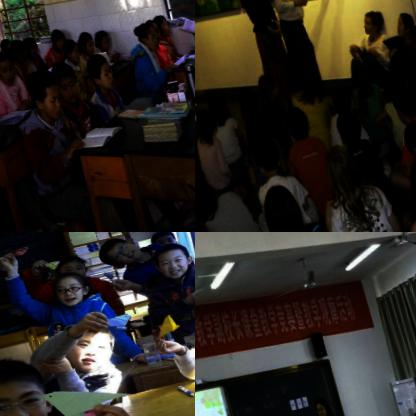head: (47, 312, 124, 382), (0, 348, 74, 416), (18, 66, 63, 122), (91, 232, 147, 276), (254, 184, 305, 232), (147, 238, 194, 284), (319, 144, 358, 191), (80, 51, 116, 96), (247, 136, 284, 176), (275, 102, 311, 142), (47, 61, 79, 105), (51, 250, 90, 282), (237, 112, 270, 148), (49, 274, 86, 306), (386, 84, 416, 122), (177, 275, 195, 336), (330, 110, 361, 145), (195, 175, 218, 219), (131, 22, 158, 55), (147, 232, 180, 258), (291, 58, 317, 90), (326, 86, 352, 118), (355, 9, 385, 36), (201, 92, 226, 124), (397, 116, 416, 158), (231, 86, 258, 115), (195, 105, 216, 141), (252, 70, 277, 100), (405, 151, 416, 217), (348, 58, 370, 90), (389, 10, 413, 38), (0, 48, 17, 86), (5, 36, 27, 65), (18, 33, 39, 60), (60, 38, 81, 64), (74, 30, 95, 55), (150, 12, 170, 38), (48, 27, 66, 53), (143, 17, 160, 44), (91, 28, 110, 52), (309, 397, 327, 416), (407, 67, 416, 98), (0, 36, 12, 56)
